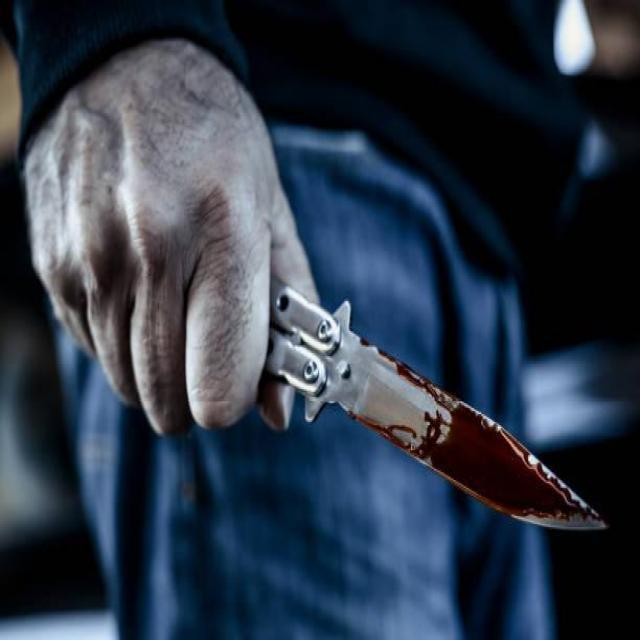faca: (14, 45, 618, 560)
